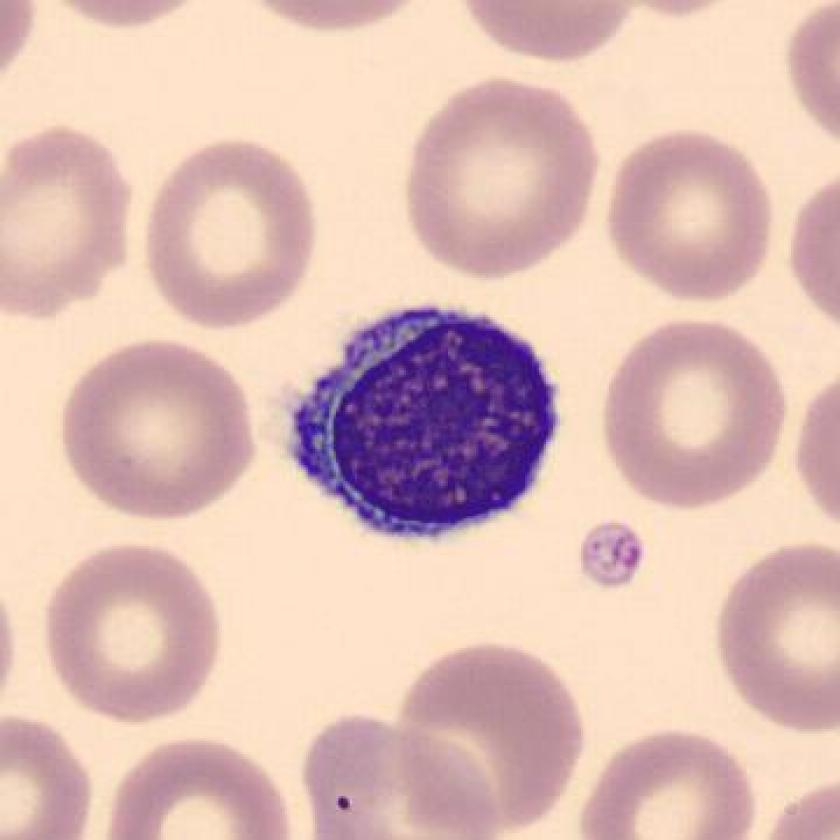lymphocyte: (274, 286, 580, 556)
